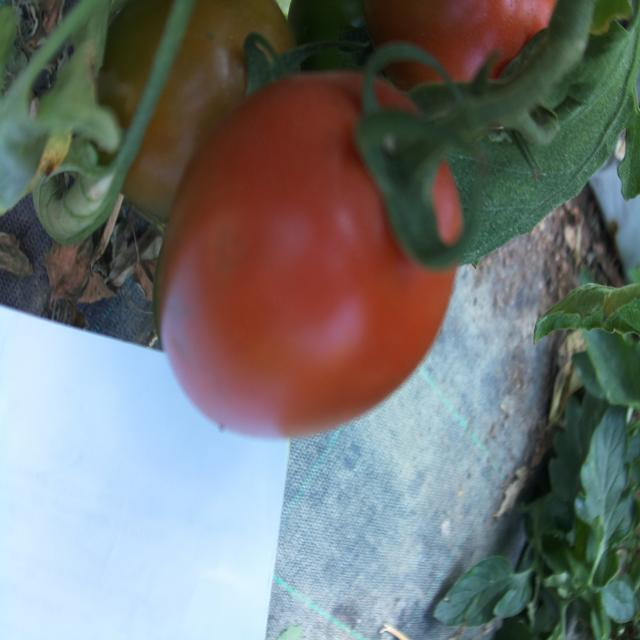kirmizi: (82, 67, 522, 415)
